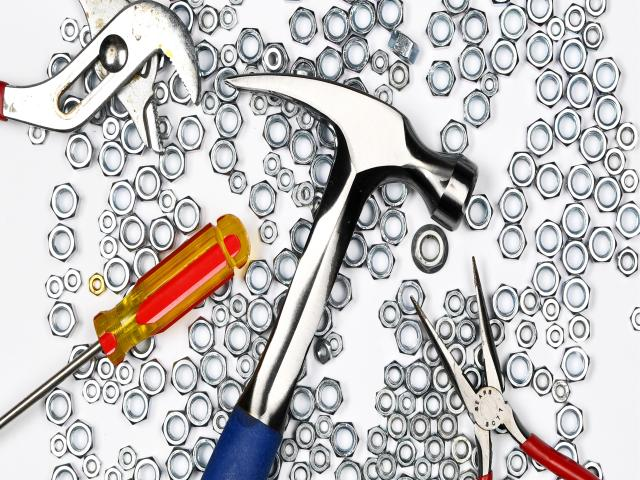Gas wrench: (0, 0, 201, 153)
Hammer: (205, 75, 478, 478)
Needle-nose pliers: (414, 257, 598, 480)
Screwdriver: (0, 215, 250, 430)
